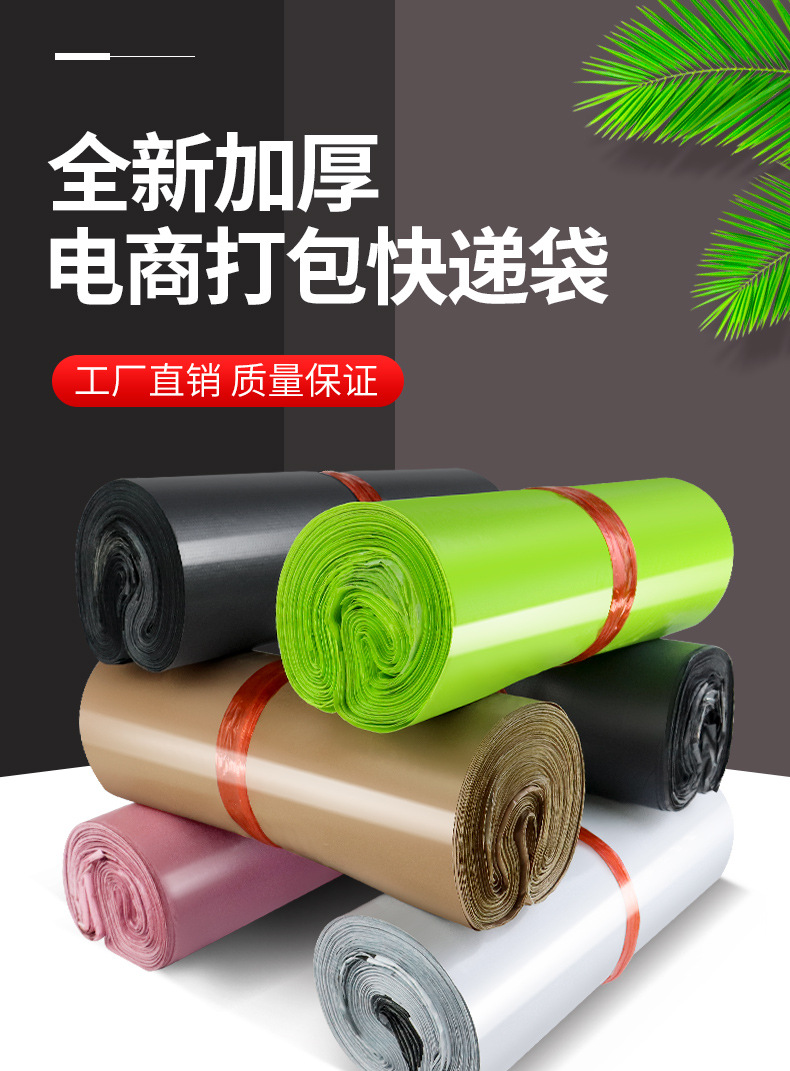Parcel: (65, 473, 732, 1070)
